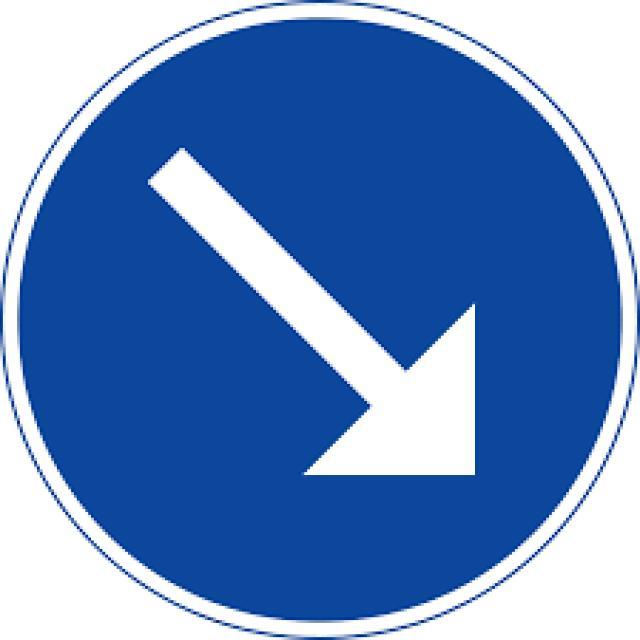compulsary keep right: (18, 23, 624, 625)
